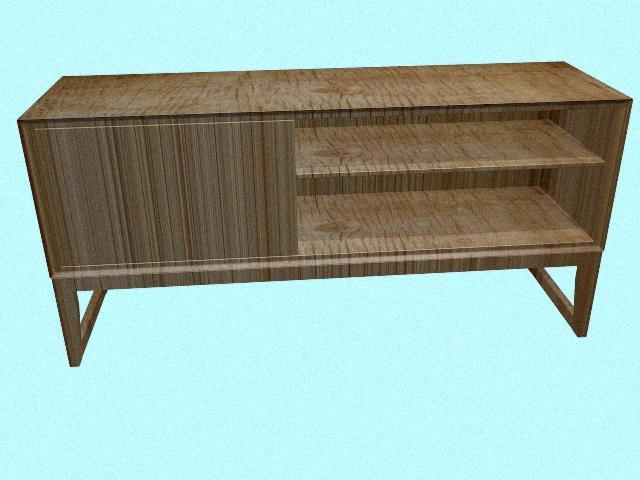cabinet_door: (47, 125, 296, 261)
